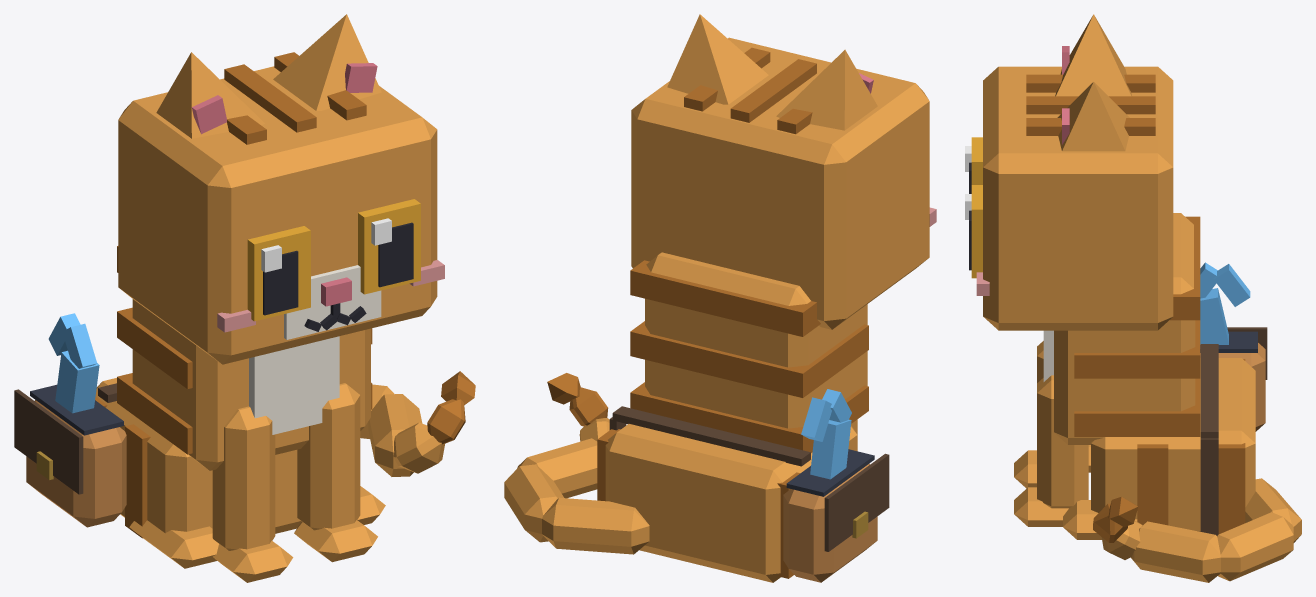
The model's file is CatCafe_Cat_Tabby_Sit.fbx.
The picture shows the model from 3 angles, left to right: view 1: azimuth 30°, elevation 25°; view 2: azimuth 150°, elevation 25°; view 3: azimuth 270°, elevation 25°; orthographic projection. The views are drawn at different scales.
Visible parts, largest first — view 1: CatCafe_Cat_Tabby_Sit_Head, CatCafe_Cat_Tabby_Sit_Body, CatCafe_Cat_Tabby_Sit_LegF2, CatCafe_Cat_Tabby_Sit_LegF1, CatCafe_Cat_Tabby_Sit_Tail, CatCafe_Cat_Tabby_Sit_EarL, CatCafe_Cat_Tabby_Sit_Eye2, CatCafe_Cat_Tabby_Sit_Eye1, CatCafe_Cat_Tabby_Sit_EarR; view 2: CatCafe_Cat_Tabby_Sit_Body, CatCafe_Cat_Tabby_Sit_Head, CatCafe_Cat_Tabby_Sit_Tail, CatCafe_Cat_Tabby_Sit_EarL, CatCafe_Cat_Tabby_Sit_EarR; view 3: CatCafe_Cat_Tabby_Sit_Head, CatCafe_Cat_Tabby_Sit_Body, CatCafe_Cat_Tabby_Sit_Tail, CatCafe_Cat_Tabby_Sit_LegF1, CatCafe_Cat_Tabby_Sit_EarL, CatCafe_Cat_Tabby_Sit_EarR, CatCafe_Cat_Tabby_Sit_Eye1, CatCafe_Cat_Tabby_Sit_LegF2, CatCafe_Cat_Tabby_Sit_Eye2.
Part boxes in pixels (box(x1,y1,x2,y2)): CatCafe_Cat_Tabby_Sit_Head: box(118, 52, 444, 364); CatCafe_Cat_Tabby_Sit_Body: box(14, 246, 385, 568); CatCafe_Cat_Tabby_Sit_LegF2: box(212, 406, 293, 582); CatCafe_Cat_Tabby_Sit_LegF1: box(294, 383, 377, 562); CatCafe_Cat_Tabby_Sit_Tail: box(360, 371, 475, 476); CatCafe_Cat_Tabby_Sit_EarL: box(273, 14, 381, 110); CatCafe_Cat_Tabby_Sit_Eye2: box(247, 226, 310, 321); CatCafe_Cat_Tabby_Sit_Eye1: box(358, 199, 420, 294); CatCafe_Cat_Tabby_Sit_EarR: box(156, 52, 264, 138); CatCafe_Cat_Tabby_Sit_Body: box(597, 252, 889, 582); CatCafe_Cat_Tabby_Sit_Head: box(631, 37, 936, 329); CatCafe_Cat_Tabby_Sit_Tail: box(504, 373, 649, 554); CatCafe_Cat_Tabby_Sit_EarL: box(667, 14, 768, 104); CatCafe_Cat_Tabby_Sit_EarR: box(776, 49, 877, 130); CatCafe_Cat_Tabby_Sit_Head: box(976, 66, 1173, 330); CatCafe_Cat_Tabby_Sit_Body: box(1043, 213, 1267, 539); CatCafe_Cat_Tabby_Sit_Tail: box(1093, 478, 1301, 582); CatCafe_Cat_Tabby_Sit_LegF1: box(1014, 375, 1088, 526); CatCafe_Cat_Tabby_Sit_EarL: box(1057, 82, 1129, 151); CatCafe_Cat_Tabby_Sit_EarR: box(1055, 14, 1131, 96); CatCafe_Cat_Tabby_Sit_Eye1: box(965, 185, 982, 278); CatCafe_Cat_Tabby_Sit_LegF2: box(1014, 341, 1043, 488); CatCafe_Cat_Tabby_Sit_Eye2: box(965, 137, 982, 193).
Bounding box in the file's own units: 1.45 × 1.85 × 1.24.
1 material, 1 textured.
